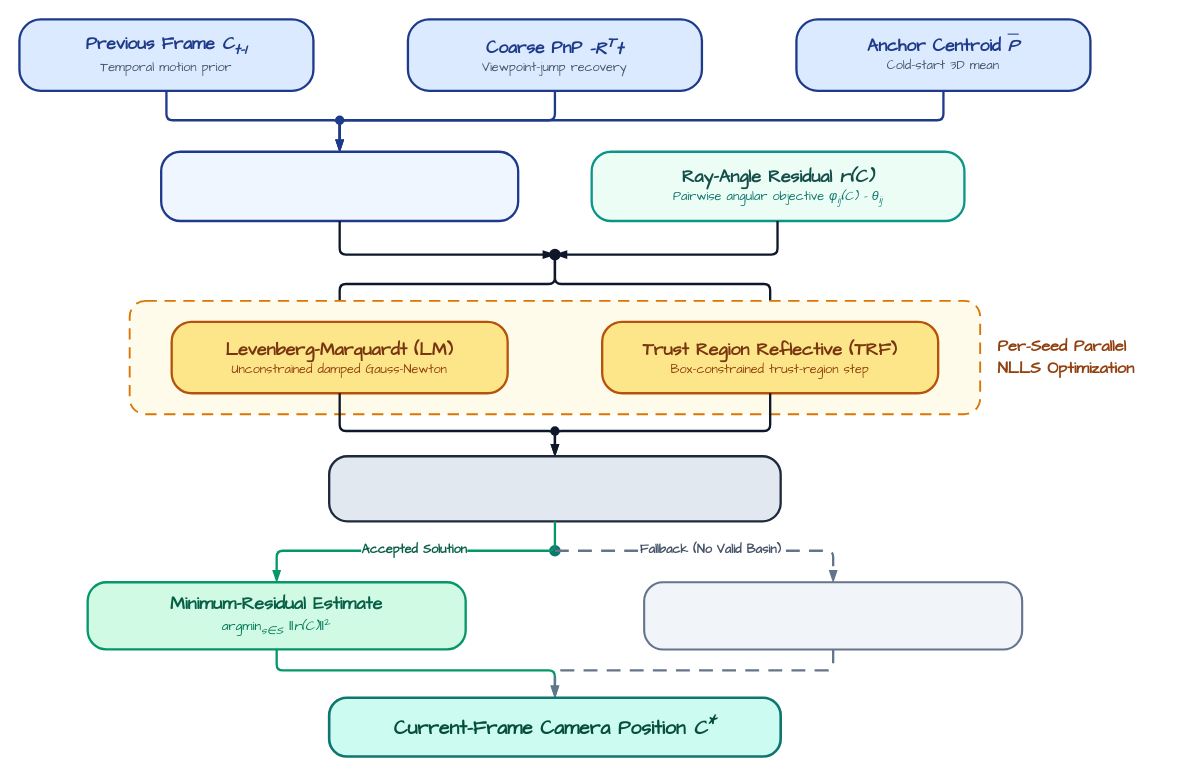
This 1203x776 diagram has some shape labels left out. Here are the shapes that lost their labels. From the top down, the centre of each, then its label:
At [339,186]: "Multi-Start Seed Pool S 3 complementary 3D initializations".
At [554,488]: "Filter Converged Solutions Verify residual acceptance threshold".
At [833,615]: "Coarse PnP / Temporal Prior Prevents single-frame trajectory spikes".
